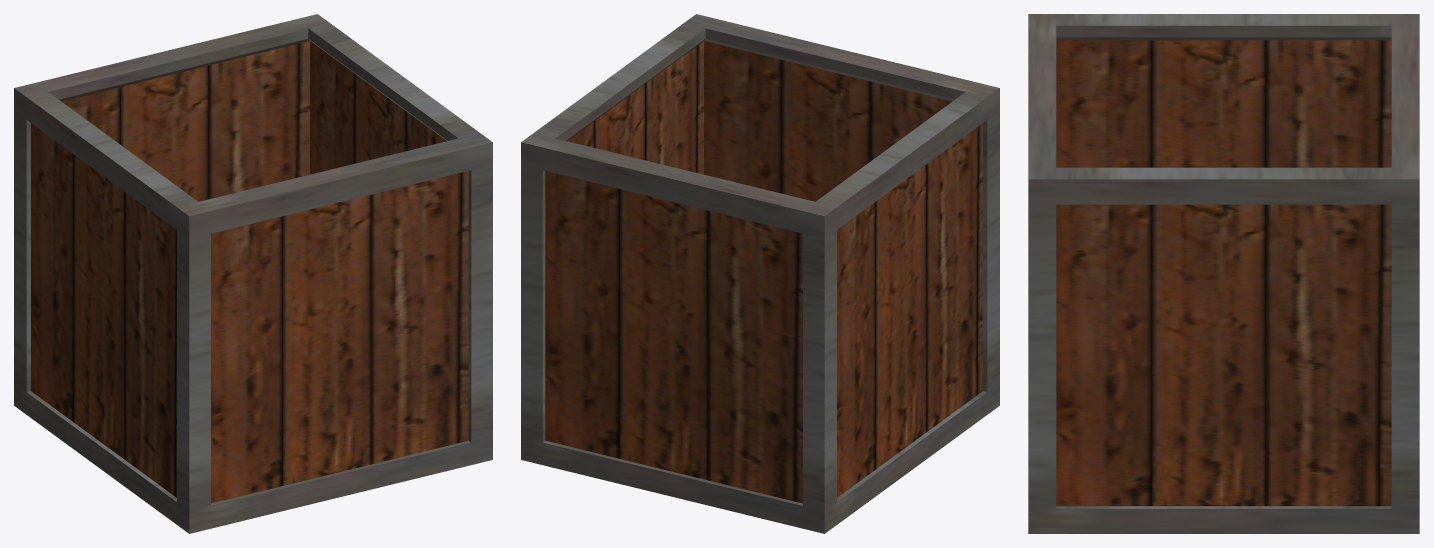
File: crate_open.FBX
3 renders of one model, left to right at view 1: azimuth 30°, elevation 25°; view 2: azimuth 150°, elevation 25°; view 3: azimuth 270°, elevation 25°, orthographic. The views are drawn at different scales.
Visible parts, largest first — view 1: crate_open; view 2: crate_open; view 3: crate_open.
Part boxes in pixels (x1,y1,x2,y2): crate_open: [14, 14, 492, 533]; crate_open: [521, 14, 999, 533]; crate_open: [1028, 14, 1419, 533].
Size of the model in its own units: 182 by 182 by 182.
Materials: 2 (2 with a texture image).
